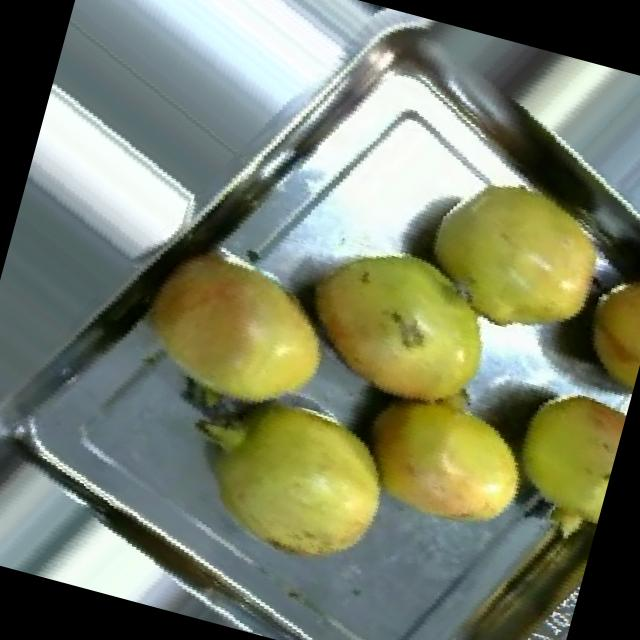fruit: (146, 346, 428, 606), (100, 200, 370, 452), (272, 204, 534, 443), (388, 137, 640, 371), (334, 344, 565, 558), (478, 354, 634, 566), (549, 233, 640, 405)
